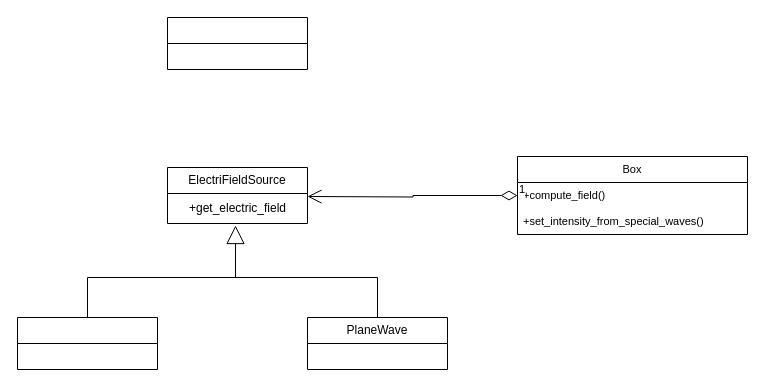
The diagram is 765 pixels wide and 387 high, and some of its shapes have lost their labels. The shapes that lost their labels are listed below. From the top down, each one's centre as x and y in pixels, then its label:
At pixel 237 43: "SpacialWave".
At pixel 87 343: "PointSource".
